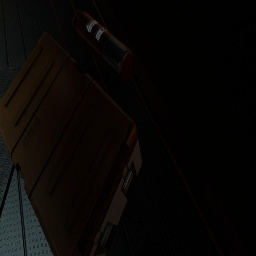NitrogenTank ,: (72, 10, 133, 86)
